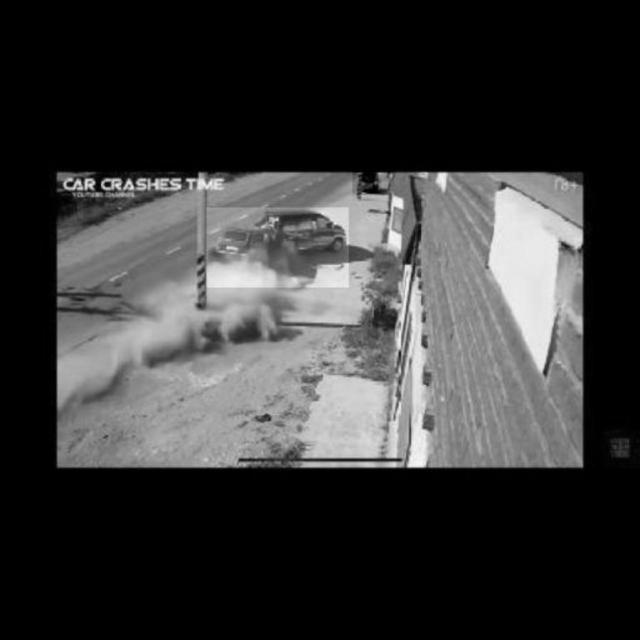accident: (207, 208, 349, 288)
vehicle: (353, 169, 390, 195)
